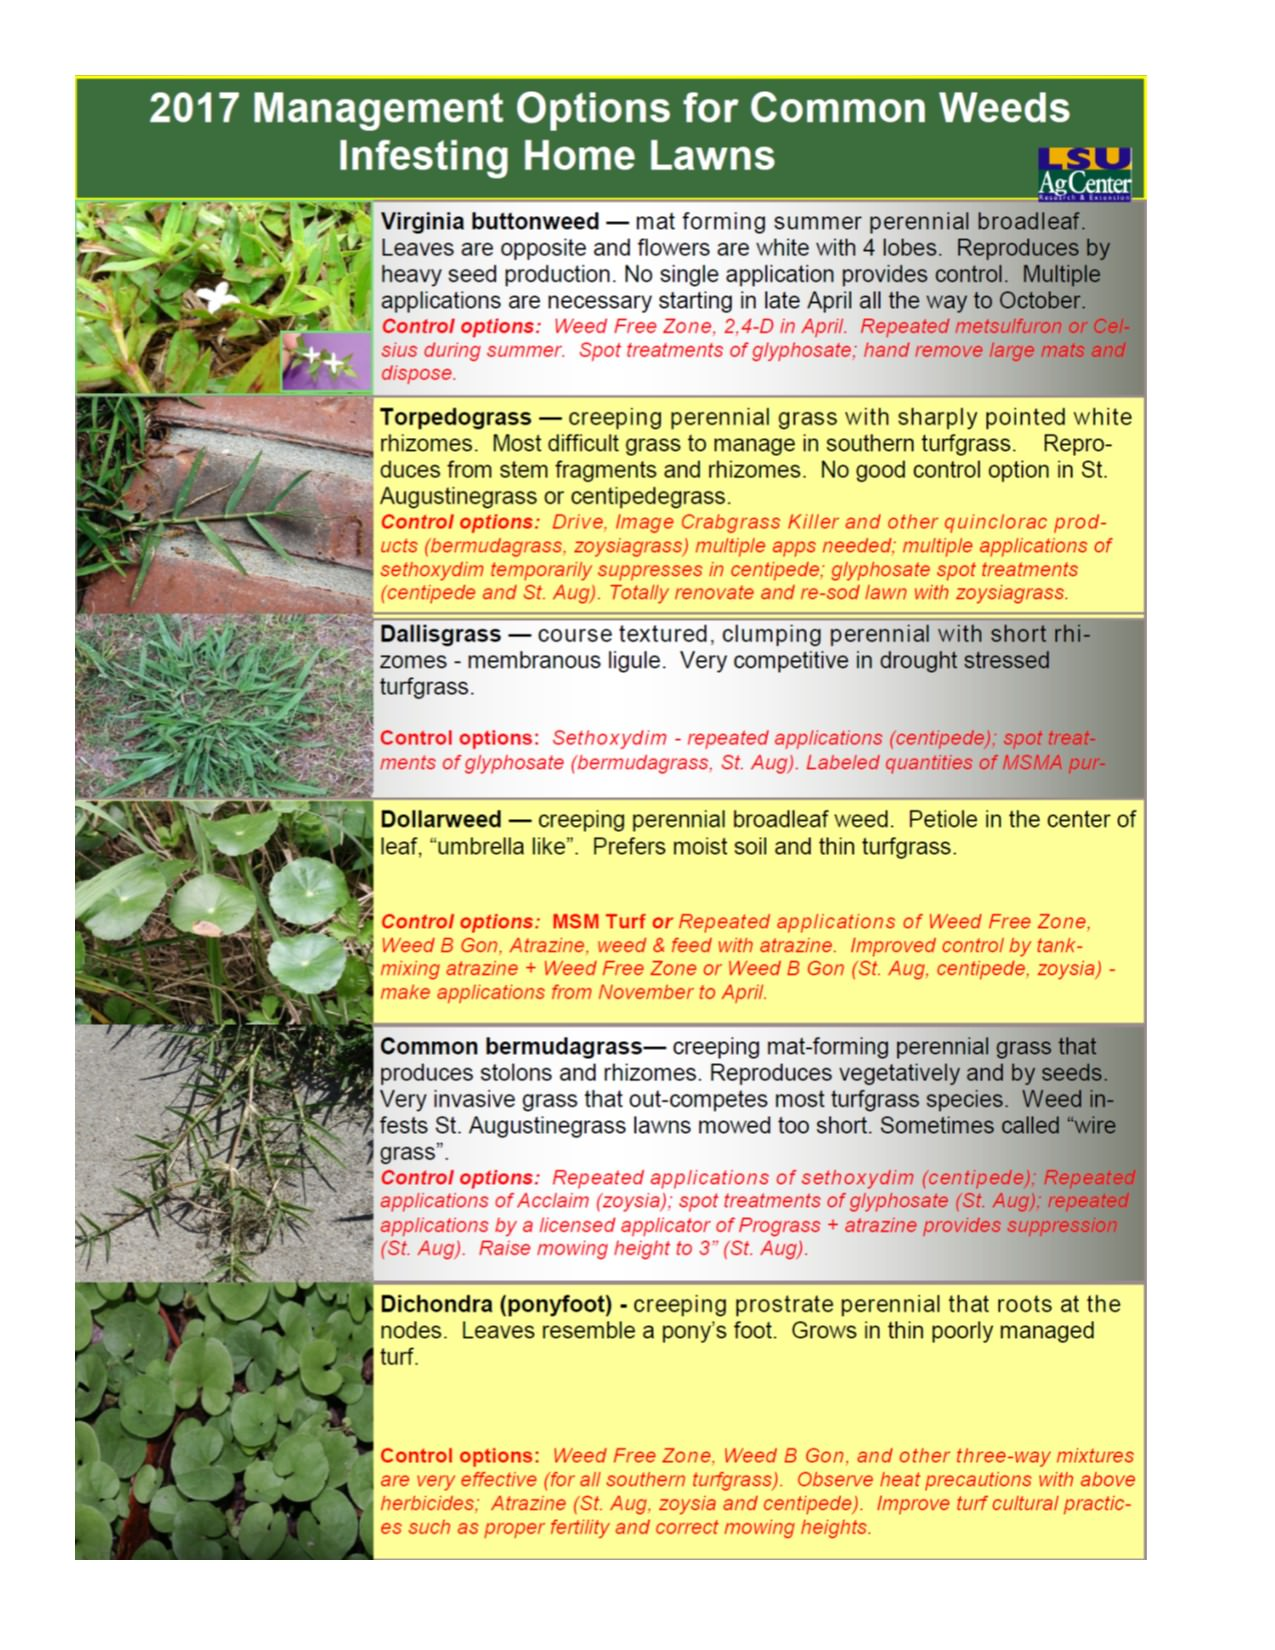crabgrass: (87, 623, 346, 804)
